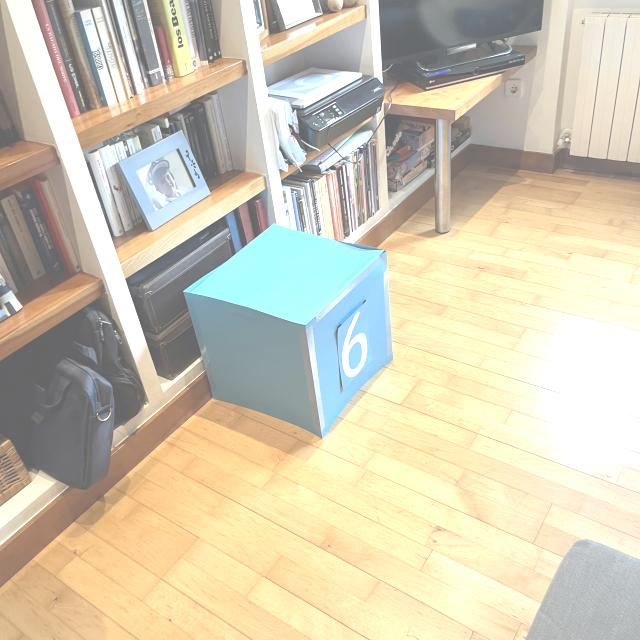box: (181, 220, 398, 440)
